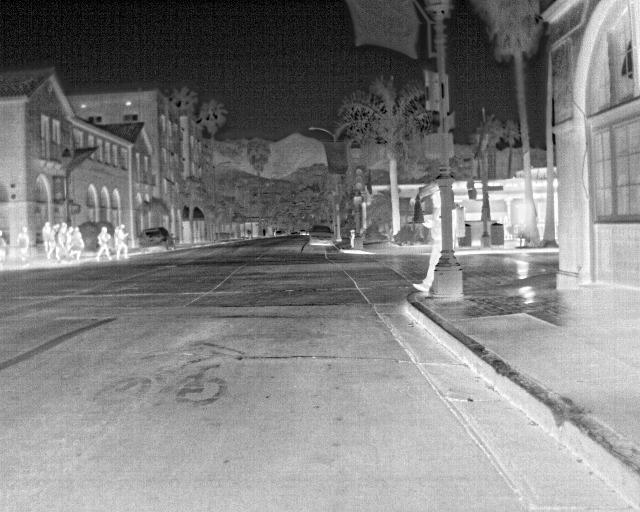bicycle: (134, 226, 172, 253), (307, 222, 336, 247)
empty: (410, 189, 442, 292), (93, 225, 115, 258), (44, 223, 62, 259), (116, 222, 132, 258), (15, 225, 30, 261), (72, 226, 86, 259)
